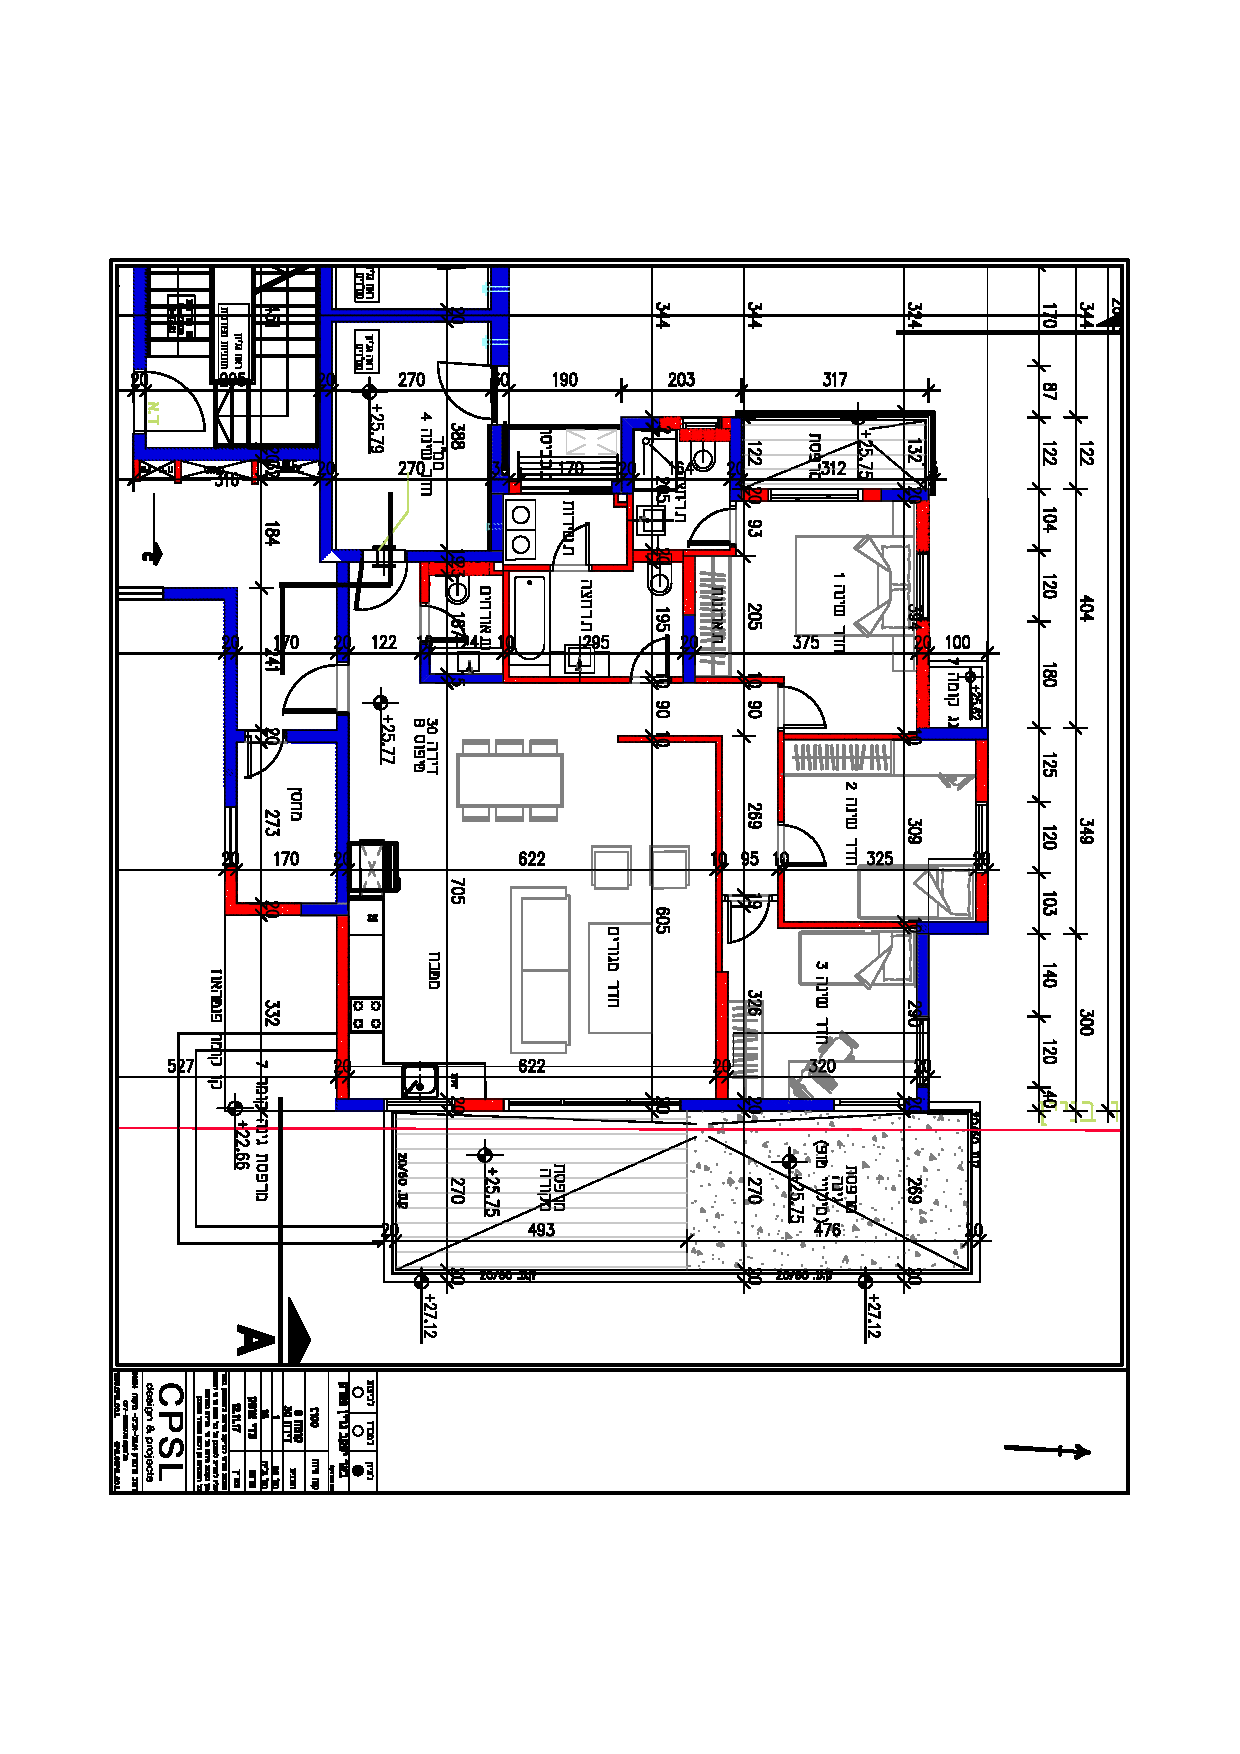door: (279, 666, 331, 723), (790, 676, 843, 731), (790, 811, 835, 870)
